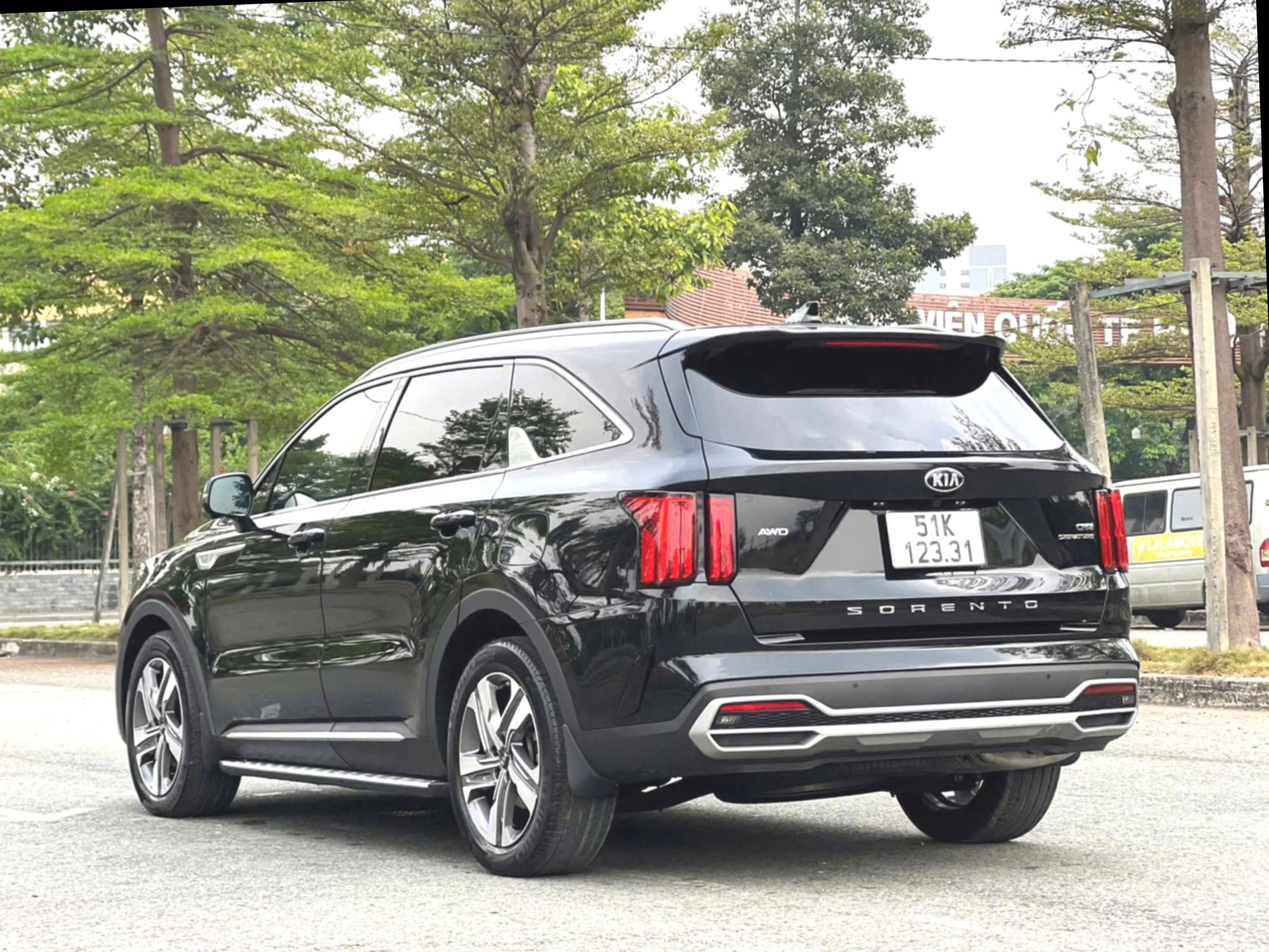Bien-so: (900, 483, 1004, 558)
